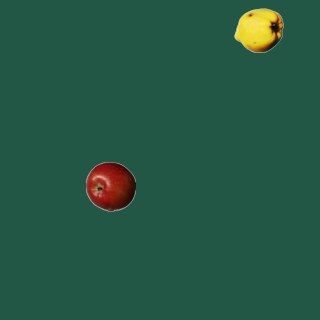Apple Braeburn: (85, 161, 135, 211)
Quince: (233, 5, 283, 55)
